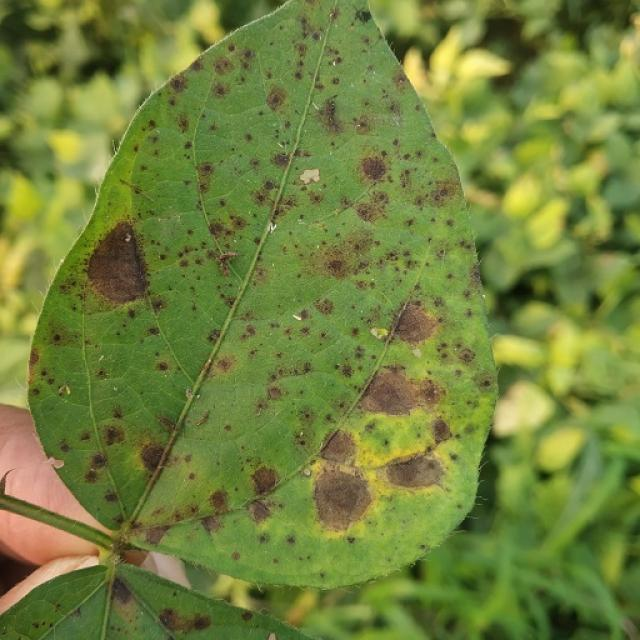Anthracnose: (85, 227, 160, 313), (84, 220, 148, 307), (312, 466, 374, 533), (309, 227, 376, 282), (359, 367, 430, 418), (383, 452, 447, 491), (205, 207, 252, 255), (390, 302, 442, 345), (319, 427, 361, 466), (158, 606, 208, 635), (313, 96, 345, 134), (354, 194, 392, 224), (139, 441, 169, 473), (249, 465, 279, 497), (251, 180, 282, 210), (360, 154, 389, 182), (432, 177, 461, 205), (110, 577, 133, 605), (247, 499, 272, 524), (430, 417, 453, 444), (141, 524, 169, 546), (100, 423, 125, 447), (265, 85, 288, 111), (212, 55, 237, 77), (208, 489, 229, 515), (353, 114, 376, 136), (212, 354, 236, 374), (196, 161, 216, 184), (325, 257, 346, 277), (169, 72, 188, 94), (271, 151, 294, 169), (313, 297, 334, 316), (83, 466, 101, 484), (207, 327, 224, 345), (306, 189, 325, 205), (28, 347, 41, 370), (267, 385, 283, 400), (155, 360, 169, 372)
Blackgram: (29, 0, 495, 586)
